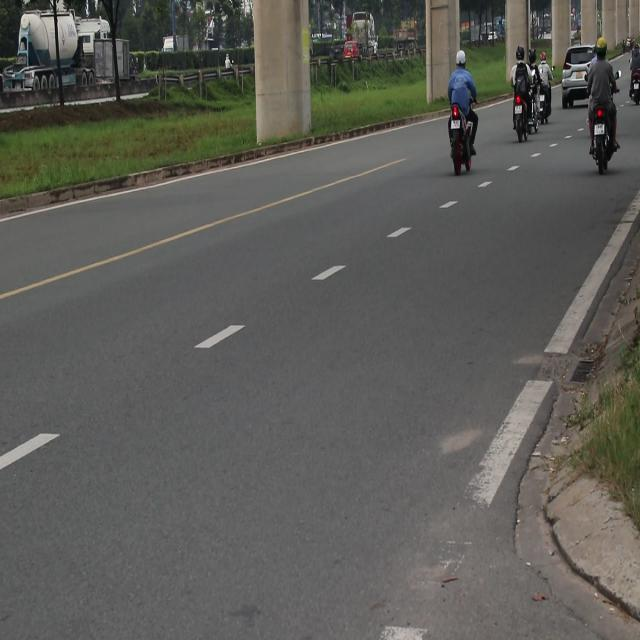car: (560, 46, 597, 108)
motorbike: (444, 112, 483, 165), (590, 108, 617, 181), (523, 88, 544, 146), (514, 85, 532, 145), (626, 59, 640, 118), (535, 86, 549, 125)
truck: (91, 21, 145, 111), (343, 10, 382, 72)
